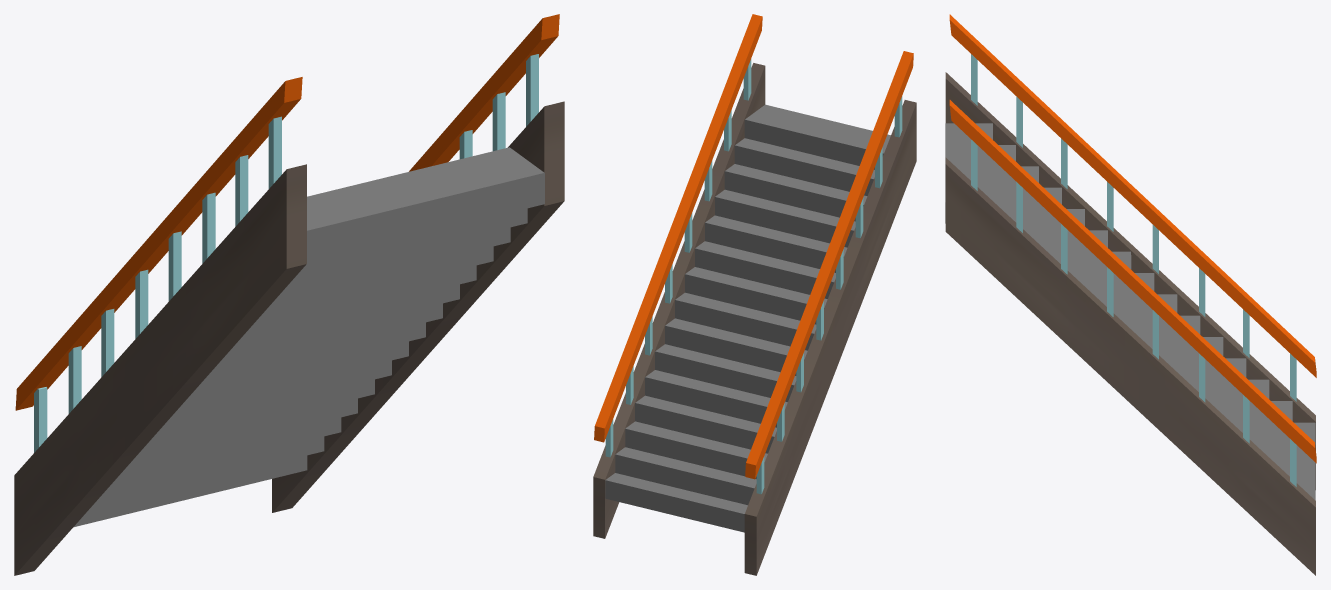
The model's file is Final ladder.fbx.
The picture shows the model from 3 angles, left to right: view 1: azimuth 30°, elevation 25°; view 2: azimuth 150°, elevation 25°; view 3: azimuth 270°, elevation 25°; orthographic projection. The views are drawn at different scales.
Parts seen in each view (by area): view 1: Steps 2.008, Plane.001, Railings; view 2: Steps 2.008, Plane.001, Railings; view 3: Plane.001, Railings, Steps 2.008.
Part boxes in pixels (bbox=[...]): Steps 2.008: bbox=[73, 147, 544, 527]; Plane.001: bbox=[14, 101, 564, 575]; Railings: bbox=[15, 14, 559, 452]; Steps 2.008: bbox=[605, 104, 890, 532]; Plane.001: bbox=[593, 63, 916, 575]; Railings: bbox=[594, 14, 913, 494]; Plane.001: bbox=[945, 72, 1315, 575]; Railings: bbox=[949, 14, 1316, 486]; Steps 2.008: bbox=[945, 123, 1315, 500].
Size of the model in its own units: 282 by 671 by 480.
